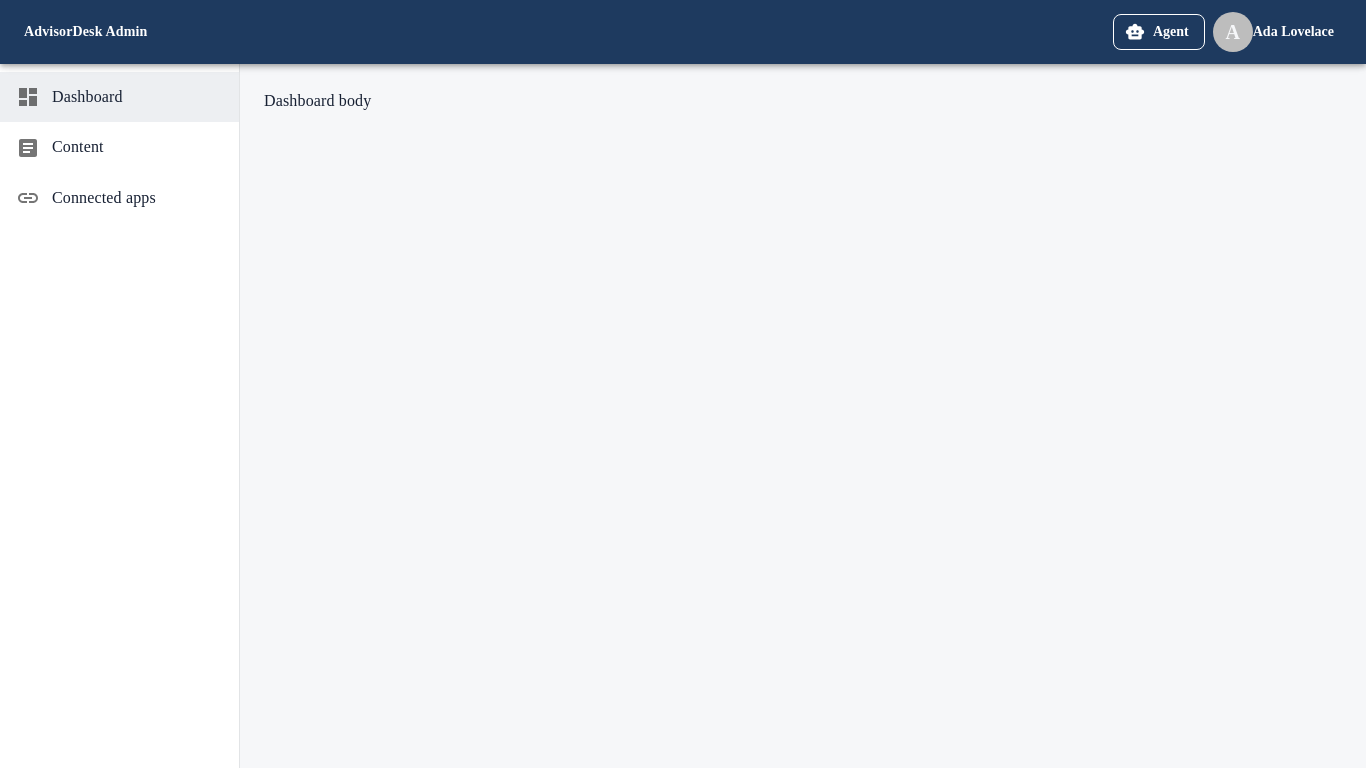
AppShell agent panel toggle › clicking the "Agent" toggle in the app bar opens the agent panel
Expected: the text "Dashboard body" is shown, 264,92 -> 371,109
Click the button "Agent" at point(1159, 32), box 1113,14 -> 1205,50
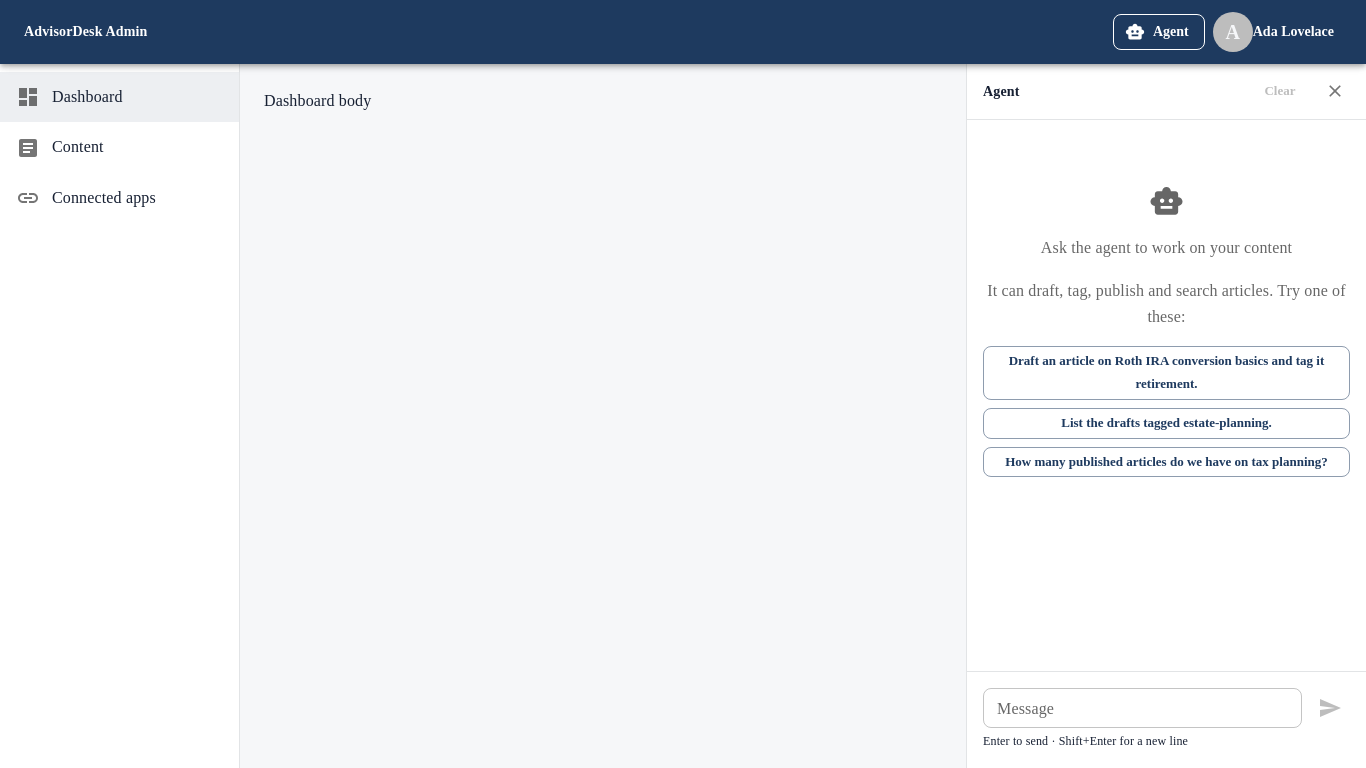
Result: the text box labelled "Message" is shown at 997,697 -> 1288,720
